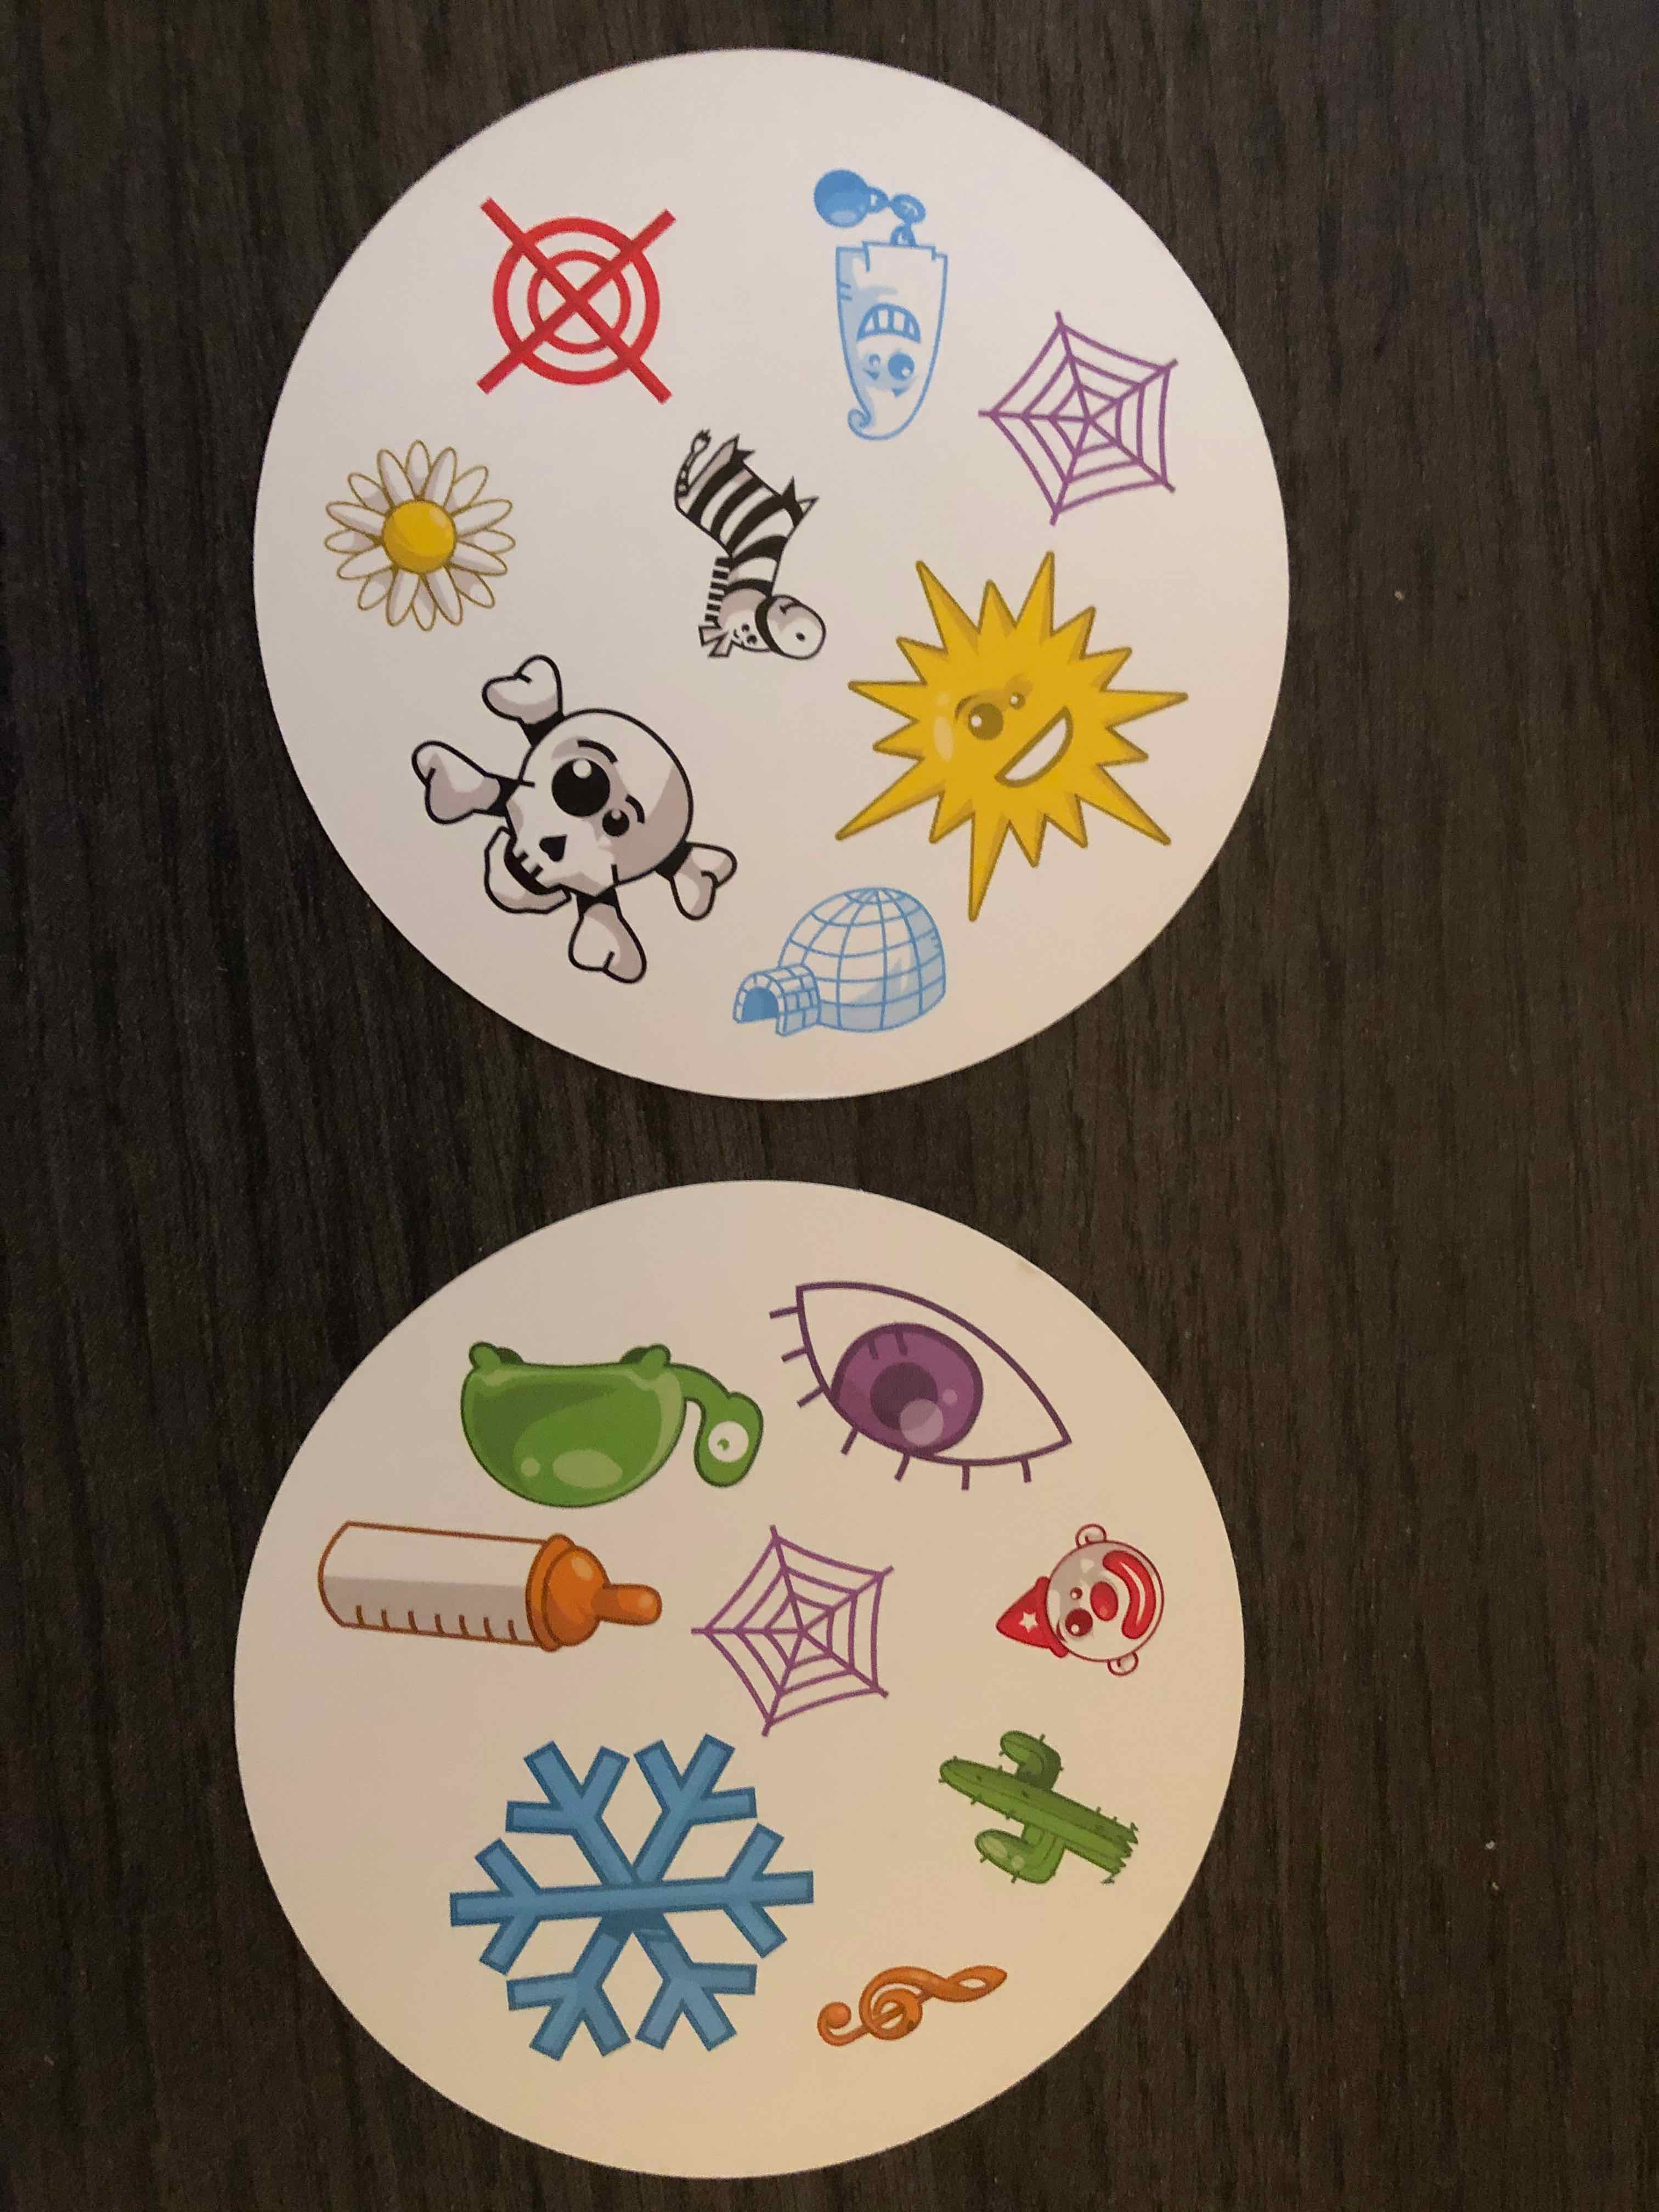biberon: (308, 1512, 667, 1663)
cactus: (936, 1721, 1141, 1897)
cible: (465, 186, 678, 413)
clown: (993, 1517, 1161, 1684)
fantome: (800, 164, 962, 469)
fleur: (317, 439, 518, 634)
flocon: (458, 1710, 819, 2066)
note: (810, 1946, 1011, 2055)
oeuil: (758, 1268, 1077, 1489)
soleil: (836, 554, 1190, 914)
tete_mort: (406, 648, 737, 977)
toile: (967, 293, 1190, 545), (690, 1522, 903, 1742)
tortue: (457, 1334, 769, 1521)
zebre: (655, 423, 840, 683)
